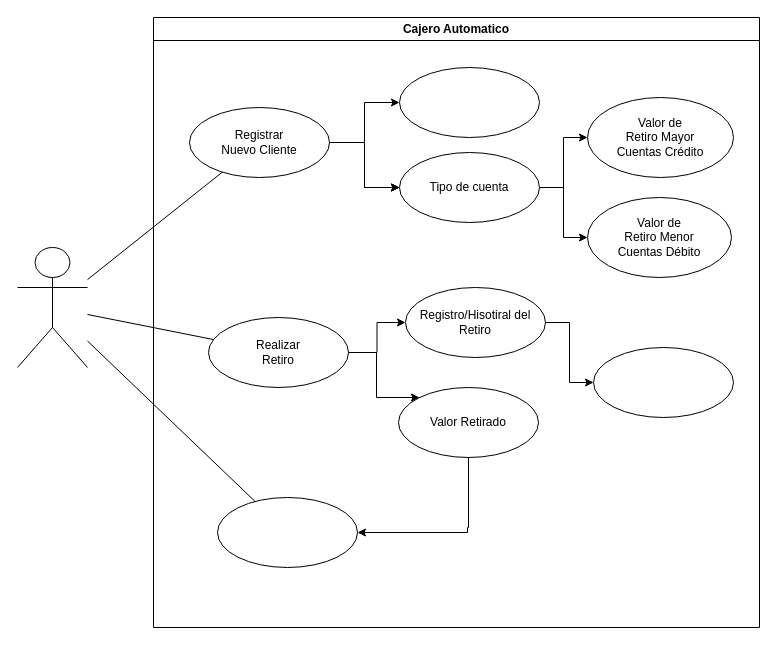
The diagram is 777 pixels wide and 645 high, and some of its shapes have lost their labels. The shapes that lost their labels are listed below. From the top down, each one's box as (x1, y1, x2, y2) in pixels, then its label:
(398, 66, 540, 138): Afiliar Banco
(16, 246, 88, 368): Cliente
(592, 346, 734, 418): Normalizar Datos
(216, 496, 358, 568): Reclamar Dinero
